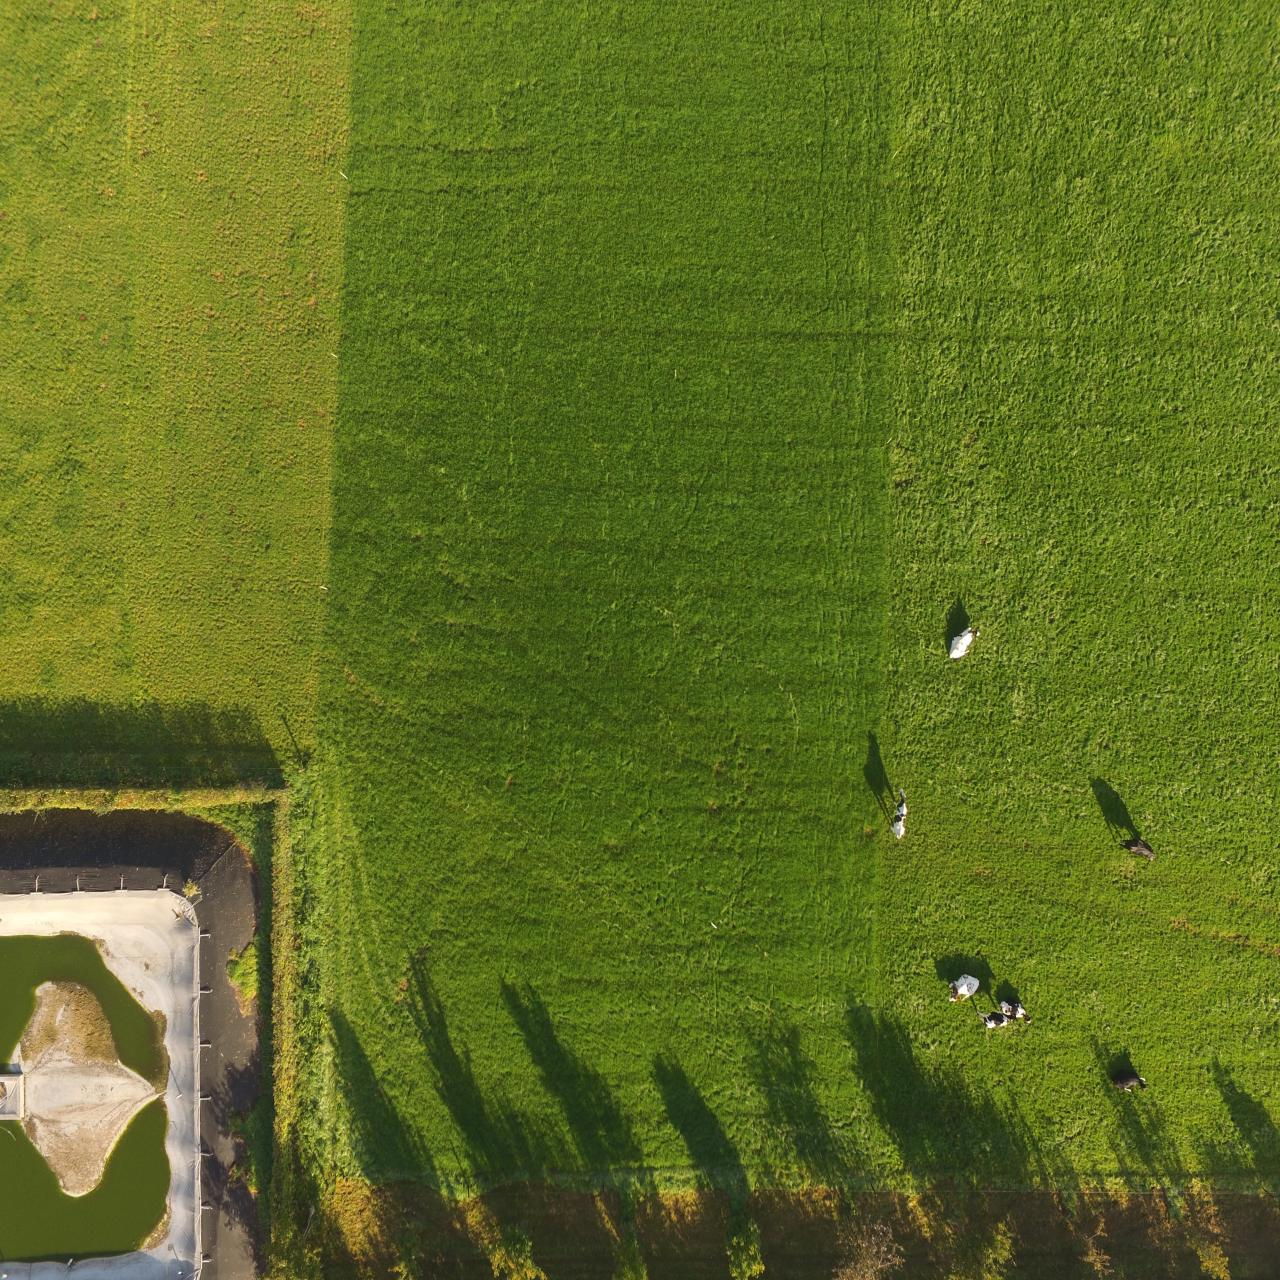cow: (1108, 1058, 1156, 1104), (890, 784, 914, 850), (945, 625, 976, 675), (1121, 832, 1162, 870), (949, 965, 983, 1005), (981, 1010, 1015, 1040), (1000, 1003, 1034, 1024)
